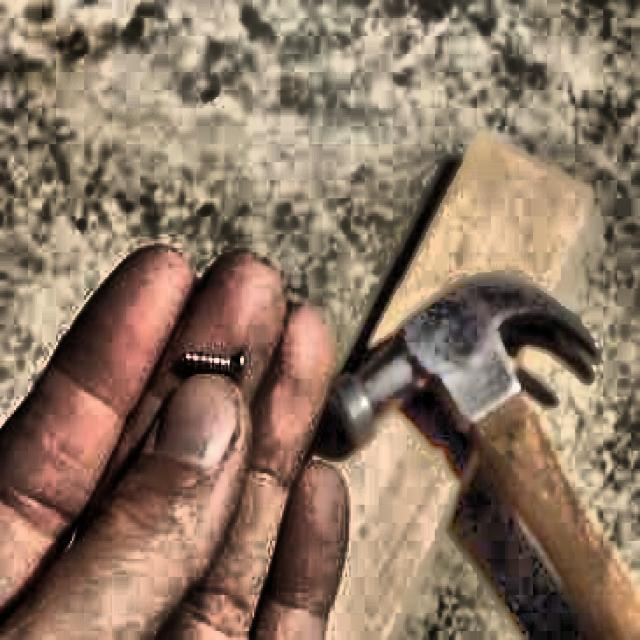hammer: (325, 274, 640, 639)
